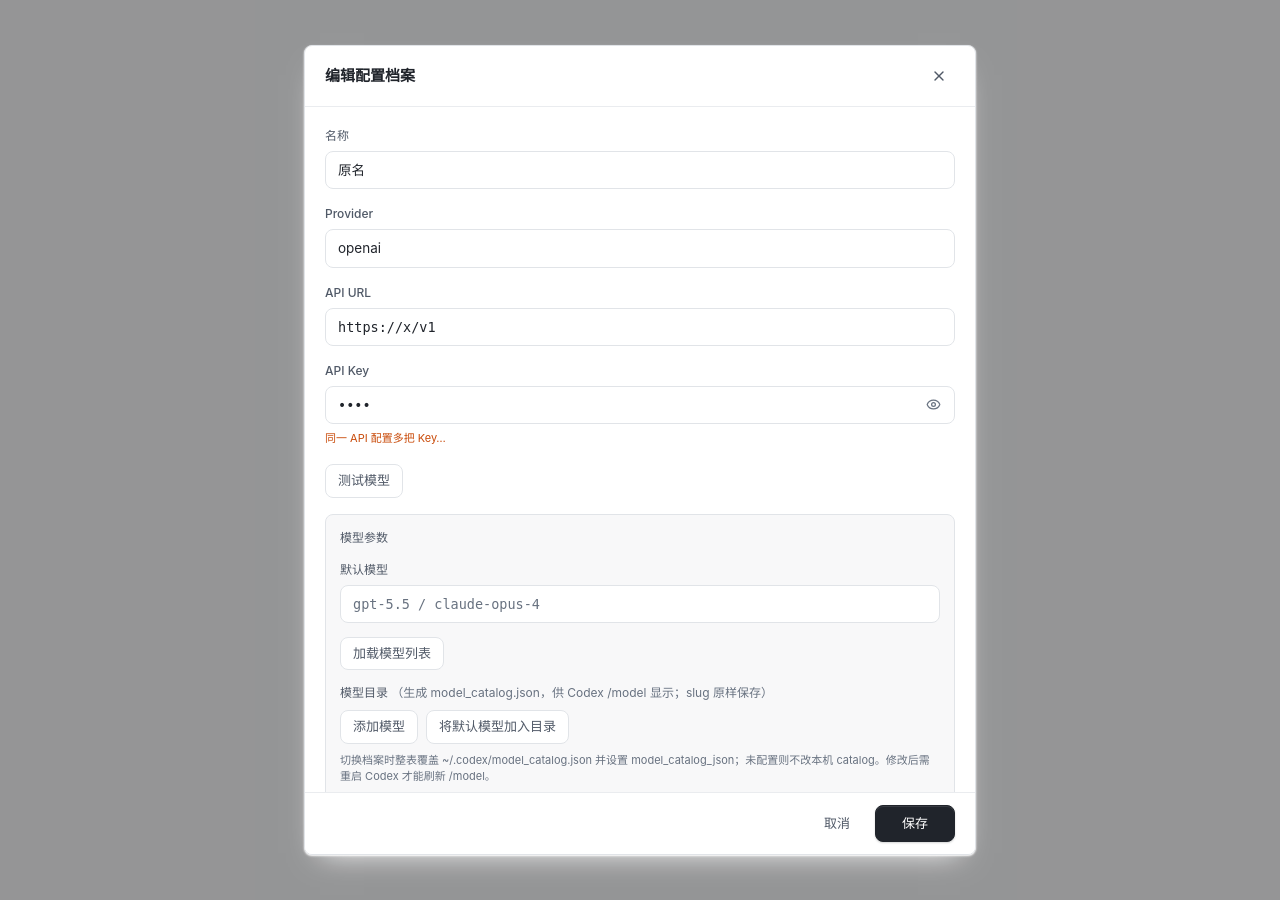
未保存修改守卫 › 有改动时点取消先问一句，不直接关闭
The width and height of the screenshot is (1280, 900).
Replace the text in the field showing "原名" with "改过的名字" at (640, 170), box x1=325 y1=151 x2=955 y2=189
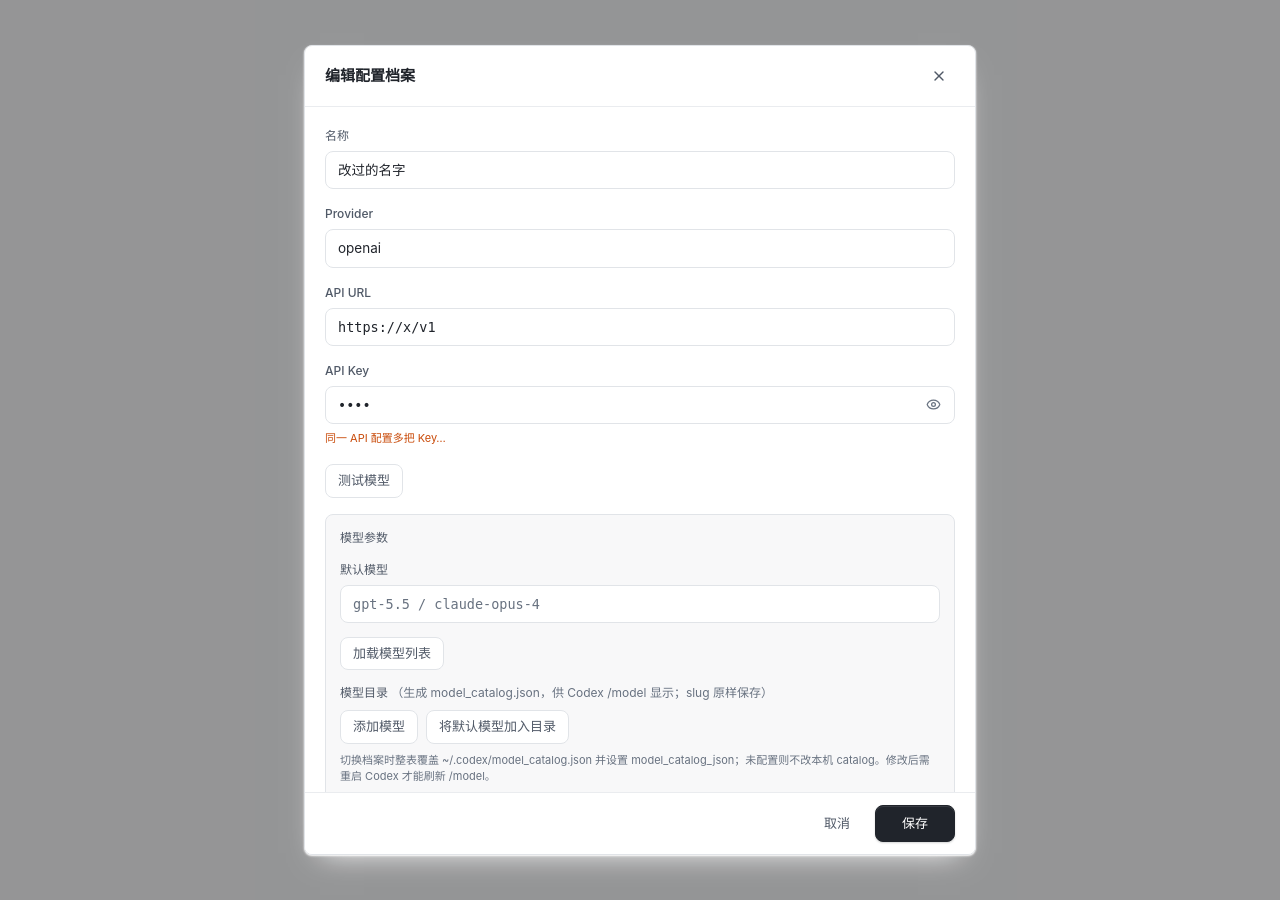
Click the button "取消" at (837, 823), box x1=809 y1=804 x2=865 y2=842
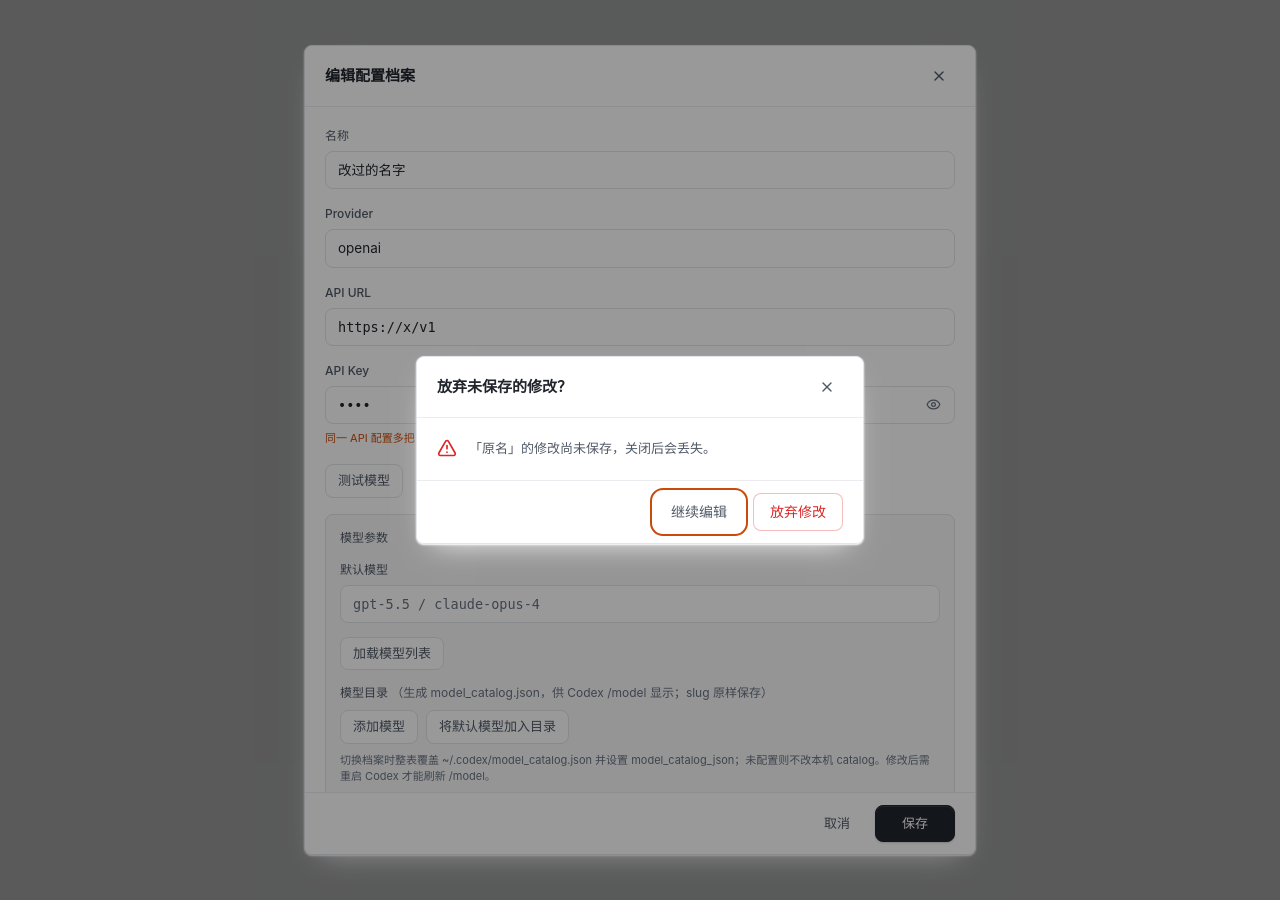
Result: the dialog shows "尚未保存" at x1=469 y1=440 x2=716 y2=456
